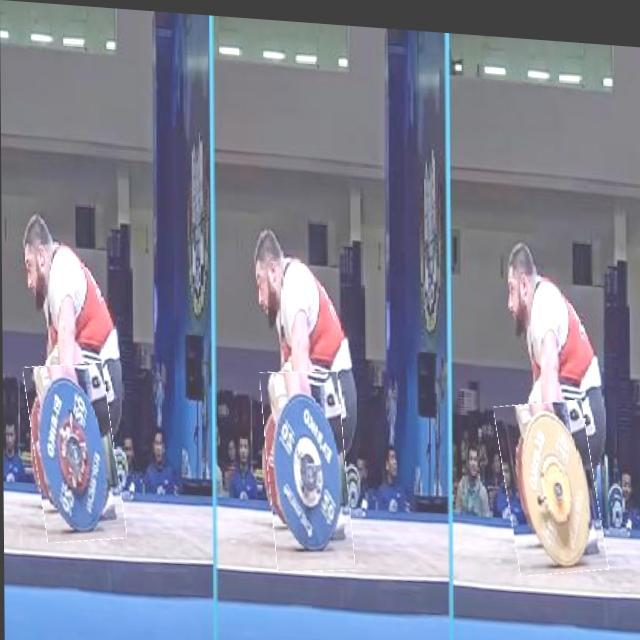barbell: (500, 390, 602, 571), (264, 365, 351, 570), (28, 360, 121, 545)
